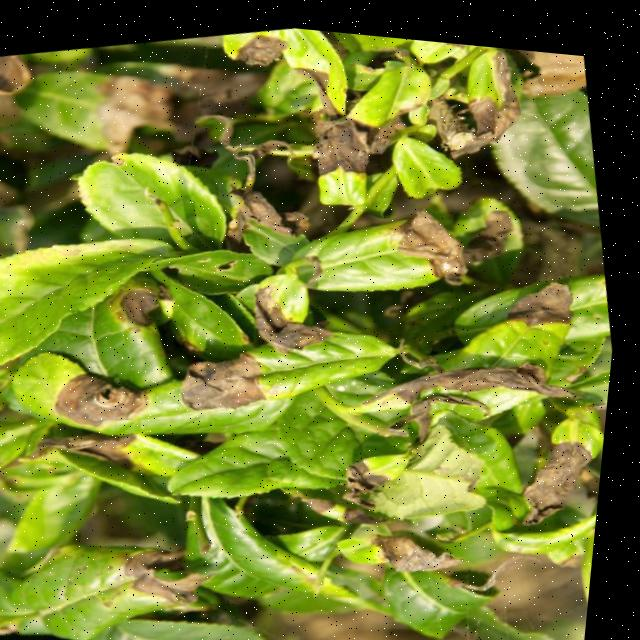Tea cloud leaf blight: (374, 334, 576, 426), (40, 350, 155, 441), (509, 426, 611, 526), (163, 348, 281, 431), (396, 193, 483, 272), (500, 263, 591, 332), (251, 277, 340, 346), (370, 510, 460, 574), (335, 443, 409, 510), (99, 274, 174, 338)
